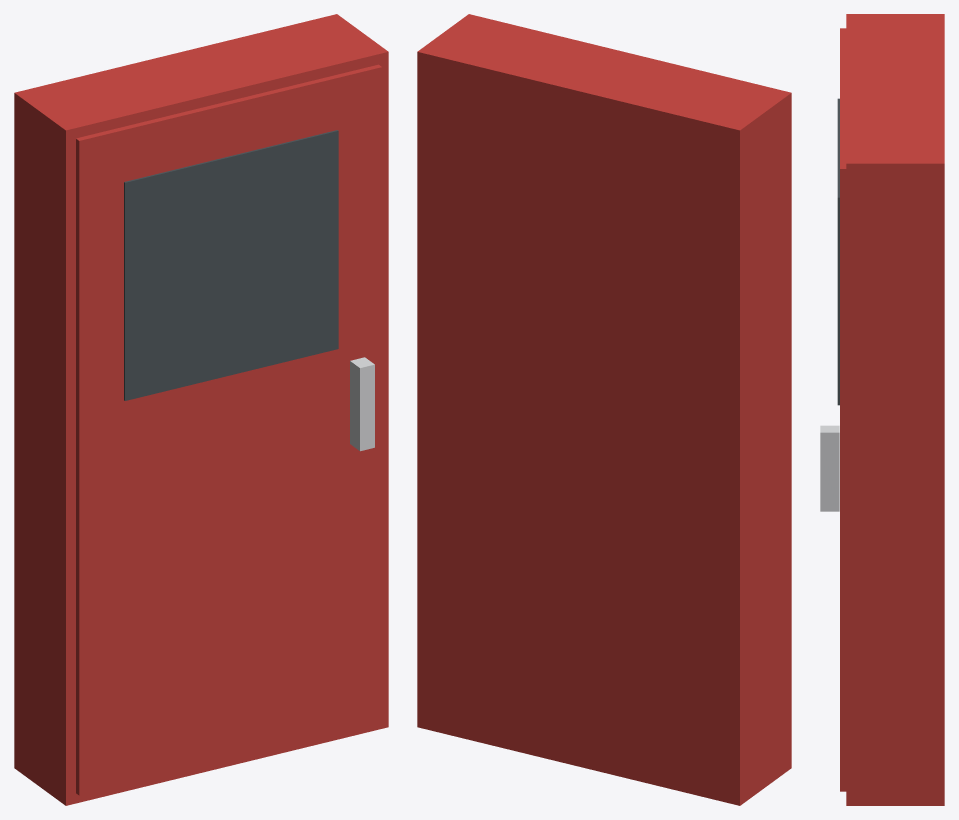
File: HydrantCabinet.fbx
3 renders of one model, left to right at view 1: azimuth 30°, elevation 25°; view 2: azimuth 150°, elevation 25°; view 3: azimuth 270°, elevation 25°, orthographic. The views are drawn at different scales.
Visible parts, largest first — view 1: HydrantCabinet; view 2: HydrantCabinet; view 3: HydrantCabinet.
Boxes of the visible parts, bbox=[...] form: HydrantCabinet: bbox=[14, 14, 388, 805]; HydrantCabinet: bbox=[417, 14, 791, 805]; HydrantCabinet: bbox=[820, 14, 944, 805].
Size of the model in its own units: 0.65 by 1.3 by 0.2275.
